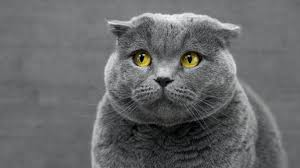Gato: (98, 9, 248, 128)
